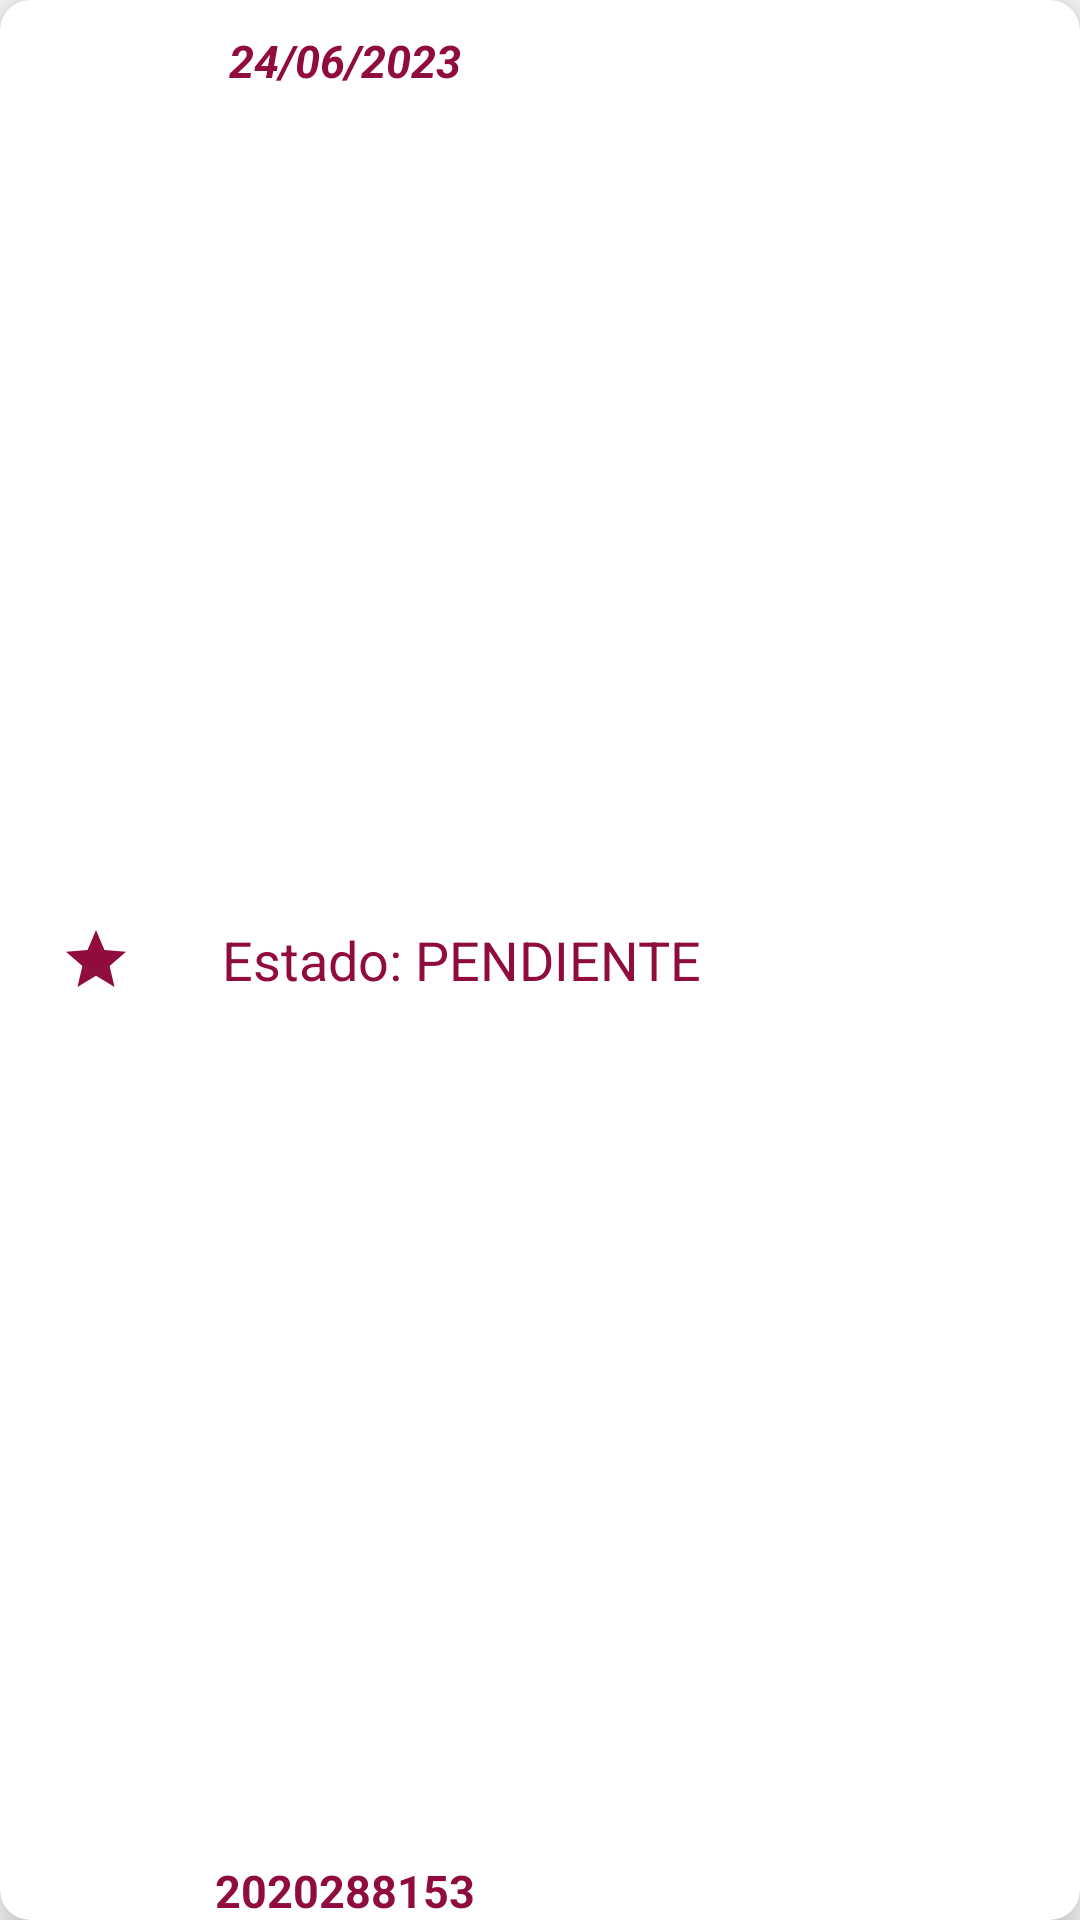

Point at icon controls on the screen. Image size 1080x1920, points as point (x, y).
star: point (96, 958)
